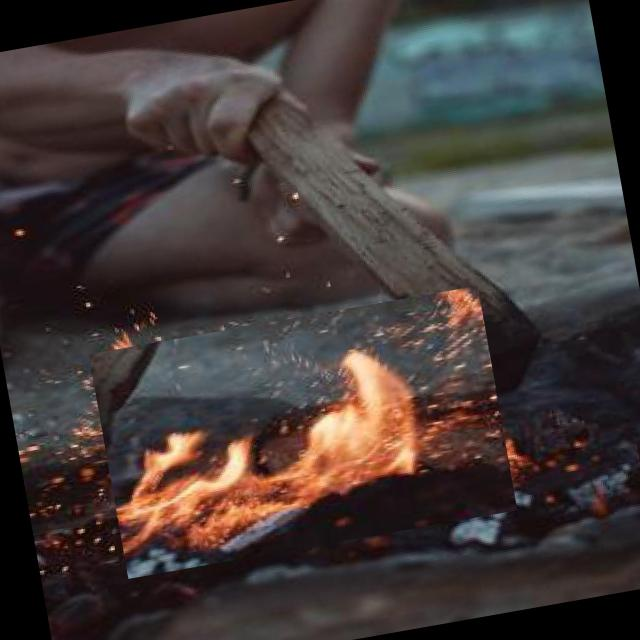fire: (88, 285, 517, 578)
